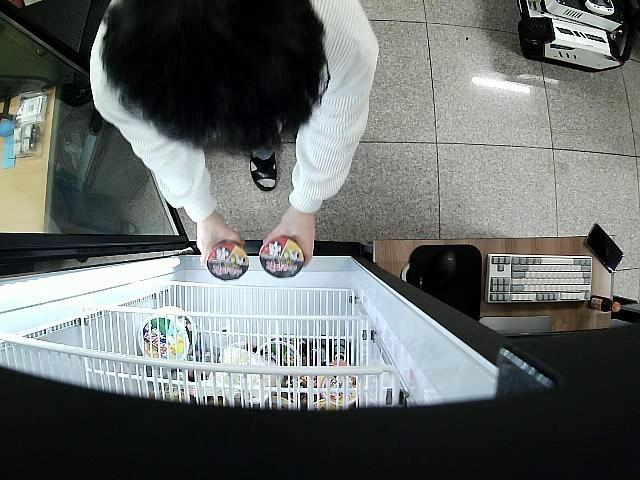08_buldak_S: (259, 236, 304, 279), (206, 241, 248, 280)
